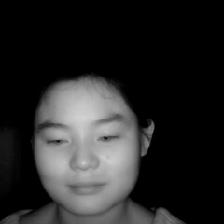normal: (21, 70, 158, 212)
